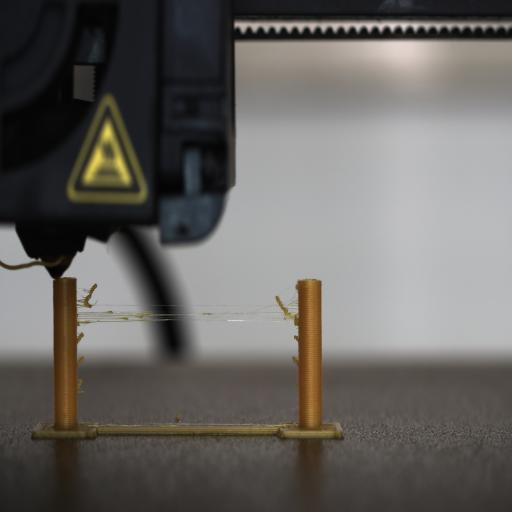stringing: (74, 292, 298, 324), (74, 328, 86, 348), (74, 357, 86, 371), (292, 329, 300, 345), (77, 377, 84, 392), (292, 357, 300, 369)
